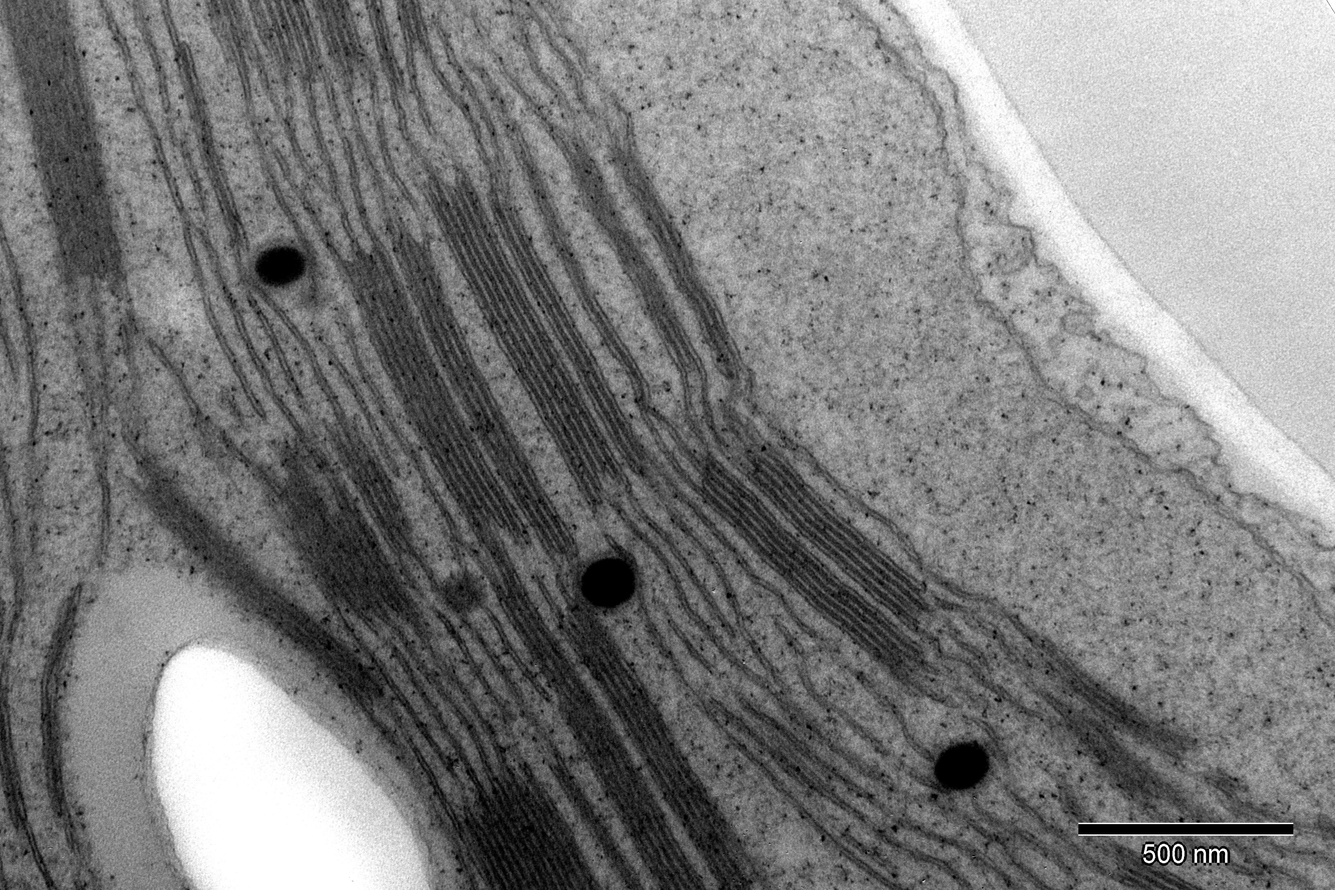granum: (555, 601, 778, 890), (135, 469, 386, 720), (423, 179, 618, 498), (500, 590, 707, 888), (388, 233, 577, 559), (693, 453, 942, 700), (332, 241, 521, 547), (713, 411, 936, 635), (491, 202, 649, 472), (0, 0, 129, 286), (554, 133, 704, 373), (270, 425, 422, 616), (620, 171, 753, 381), (456, 773, 606, 890), (323, 412, 419, 557), (247, 1, 330, 87), (203, 1, 266, 65), (310, 2, 369, 64), (1111, 870, 1205, 890), (395, 2, 430, 44)
